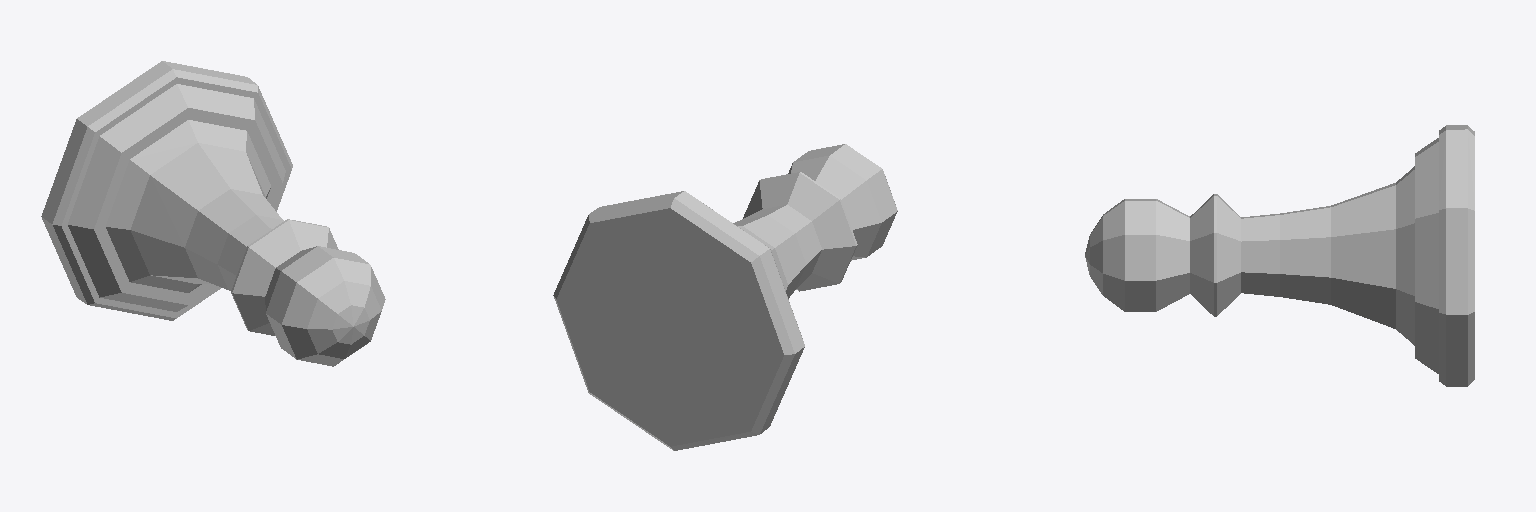
File: chess19.obj
The picture shows the model from 3 angles: view 1: azimuth 30°, elevation 25°; view 2: azimuth 150°, elevation 25°; view 3: azimuth 270°, elevation 25°; orthographic projection.
Parts seen in each view (by area): view 1: Object.1; view 2: Object.1; view 3: Object.1.
Part boxes in pixels (bbox=[...]): Object.1: bbox=[41, 61, 385, 366]; Object.1: bbox=[553, 144, 897, 450]; Object.1: bbox=[1085, 125, 1474, 386].
Size of the model in its own units: 22.89 by 22.89 by 32.